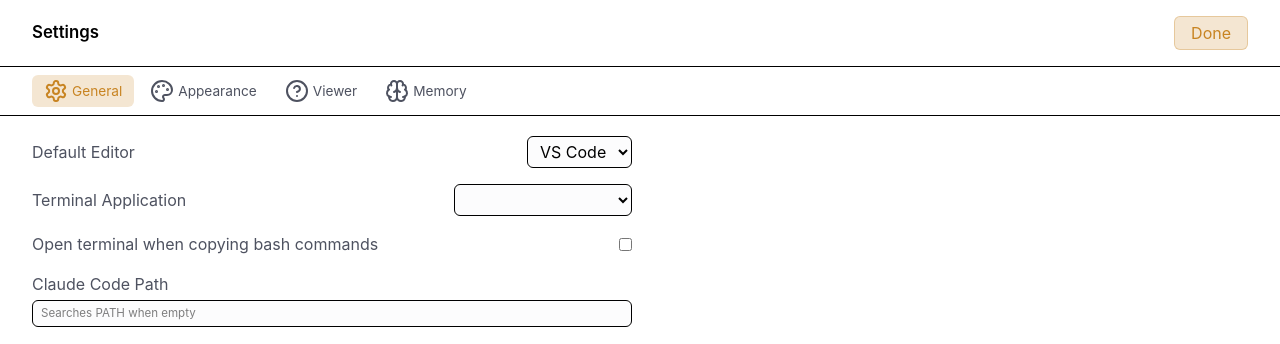
Test case: SettingsPage: Memory tab (reuses memoryStore.addFolder/removeFolder, M3-04) › lists only folder-kind sources, not project memory sources
Click the tab titled "Memory". click: (426,91)
box: [373,75,479,107]
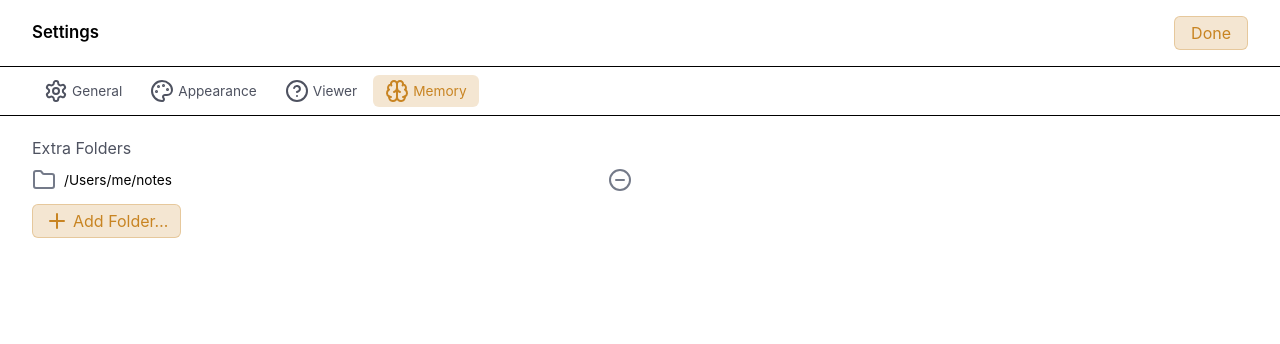
Expected: the text "/Users/me/notes" is shown, [64,172,172,188]
